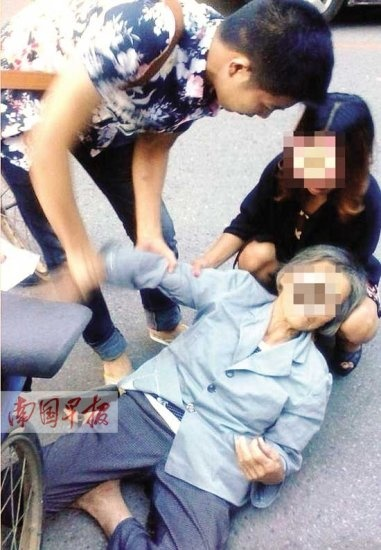falling: (21, 218, 359, 550)
